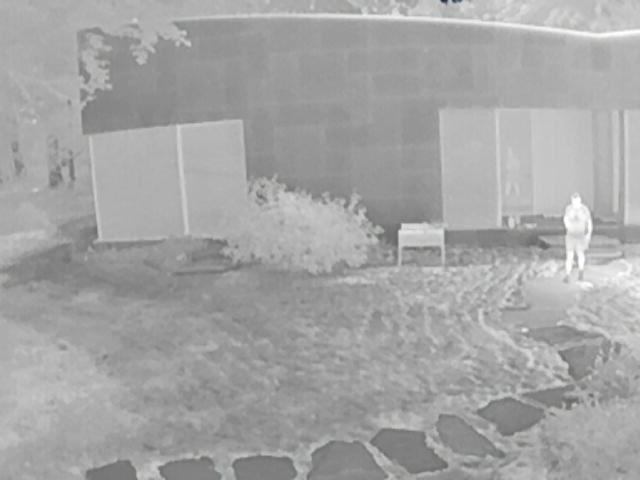person: (560, 194, 592, 286), (502, 144, 522, 198)
